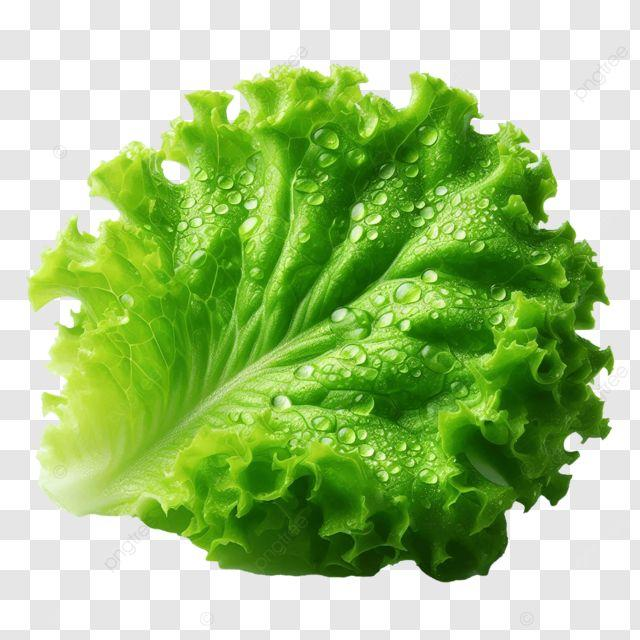lettuce: (30, 67, 610, 579)
